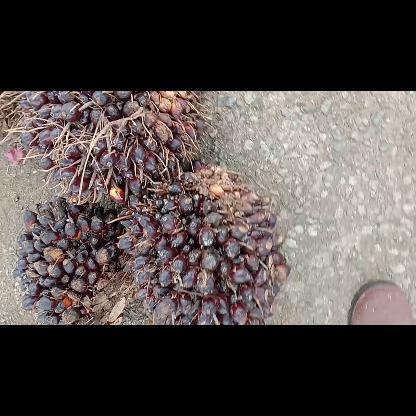TBS mentah: (120, 168, 290, 324), (18, 91, 208, 203), (12, 194, 130, 324)
